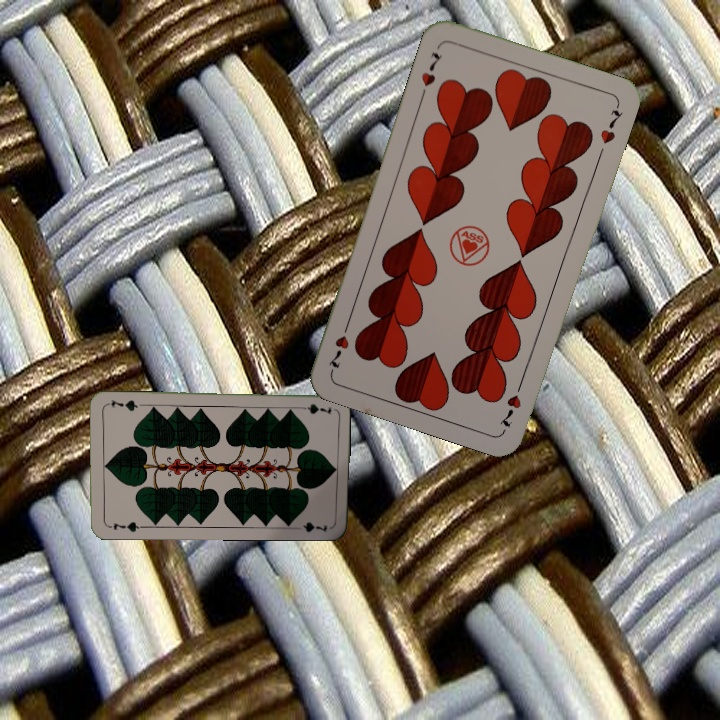G7: (104, 518, 145, 534), (293, 400, 334, 415)
H7: (496, 375, 526, 430), (417, 47, 445, 89)
